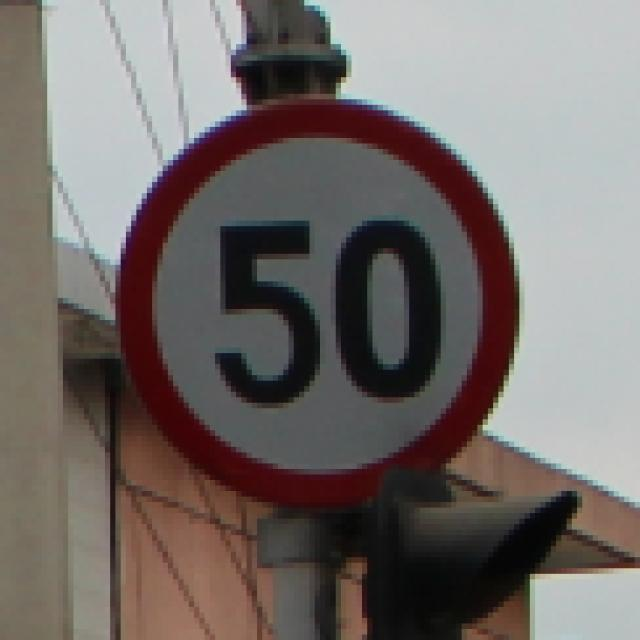Limite-50: (114, 89, 524, 514)
